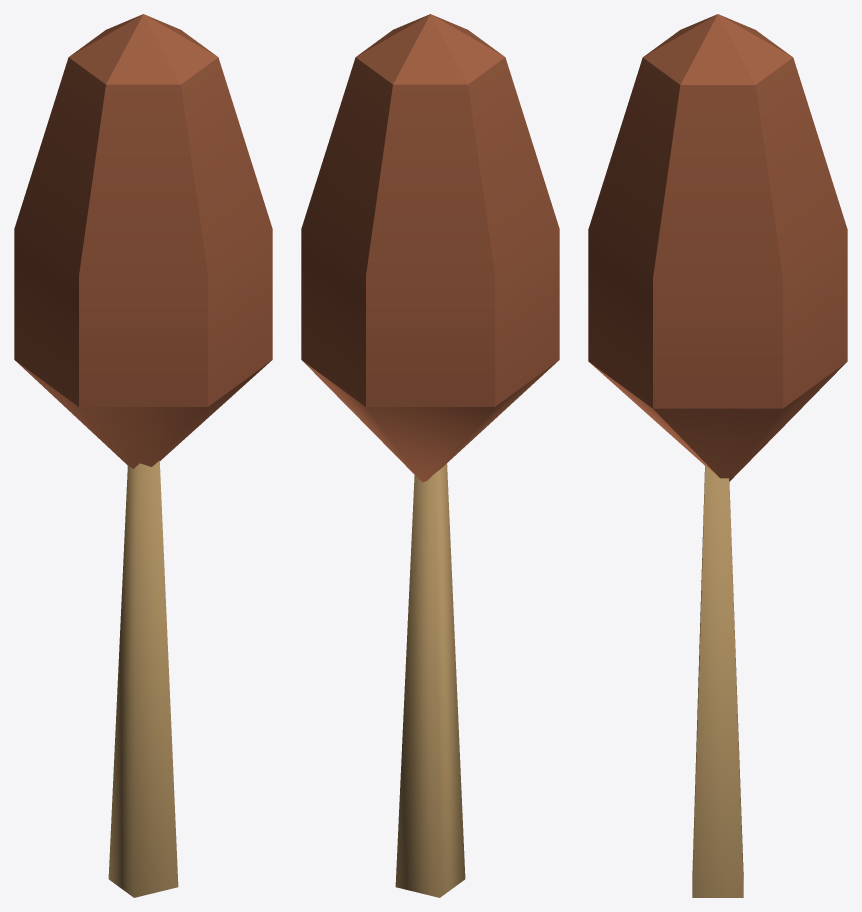
File: naturePack_068.obj
3 views of the same model, side by side, from view 1: azimuth 30°, elevation 25°; view 2: azimuth 150°, elevation 25°; view 3: azimuth 270°, elevation 25° (orthographic).
Visible parts, largest first — view 1: naturePack_068; view 2: naturePack_068; view 3: naturePack_068.
Part boxes in pixels (x1,y1,x2,y2): naturePack_068: (14, 14, 272, 897); naturePack_068: (301, 14, 559, 897); naturePack_068: (588, 14, 847, 897).
Size of the model in its own units: 1.58 by 6.75 by 1.82.
